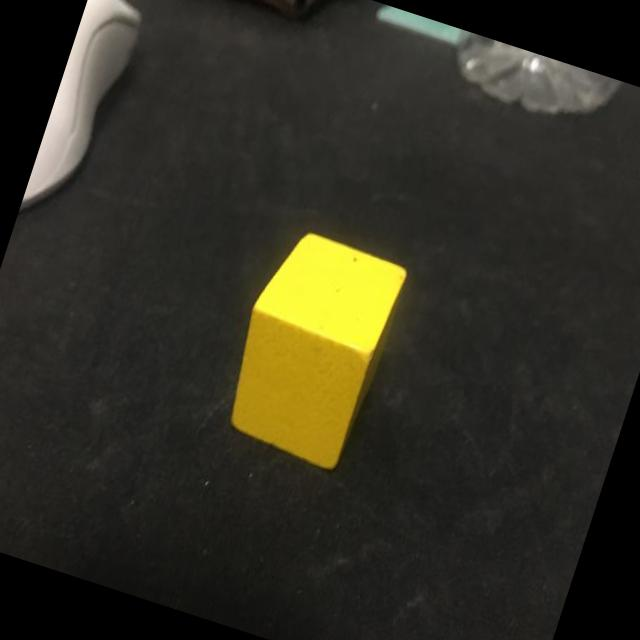yellow: (212, 223, 410, 472)
